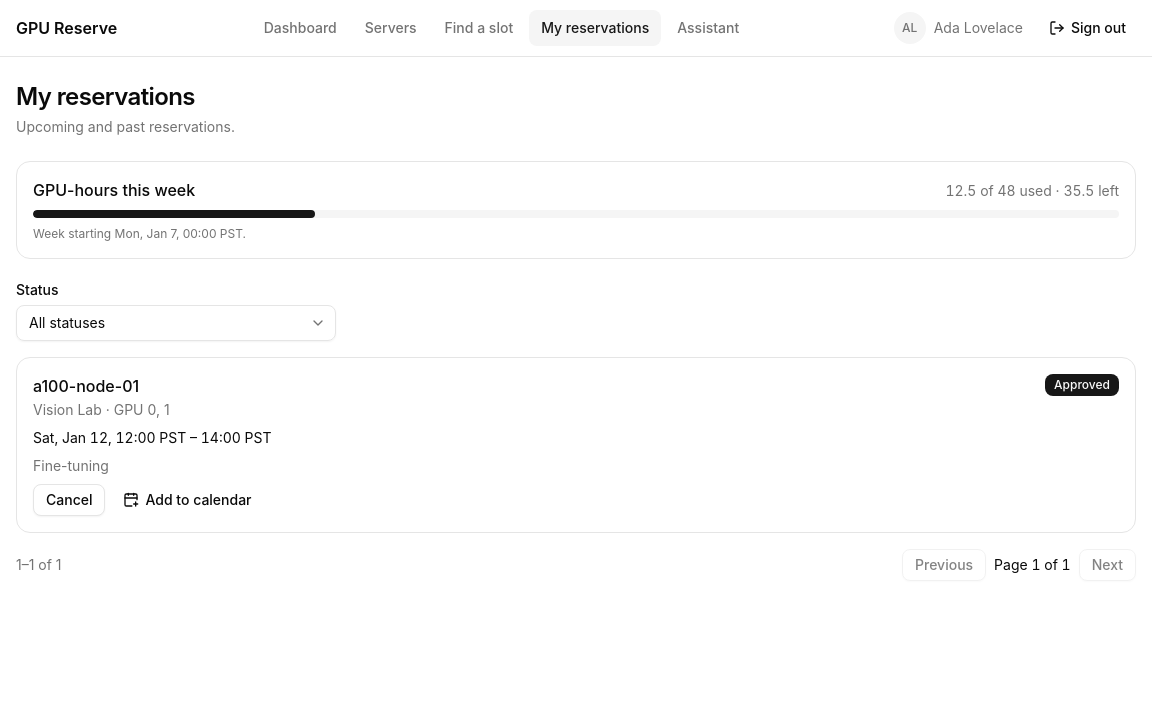
Test case: my reservations page › cancels an upcoming reservation after confirmation
The image size is (1152, 720).
What coordinates should you click on to do the following:
click the button "Cancel"
I would click on:
 (69, 500)
Its box is [33,484,106,516].
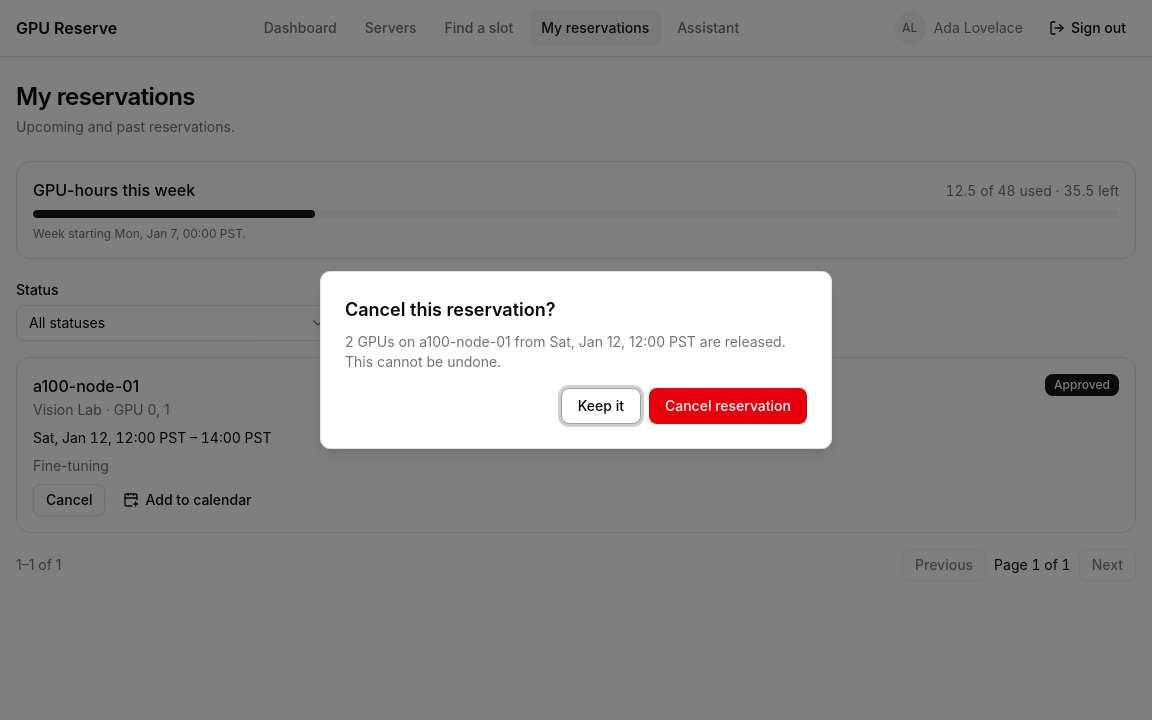
Expected: the dialog "Cancel this reservation?" shows "2 GPUs on a100-node-01 from Sat, Jan 12, 12:00 PST", [345,333,786,370]
What coordinates should you click on to do the following:
click the button "Cancel reservation"
I would click on:
 (728, 406)
Its box is [649,388,807,424].
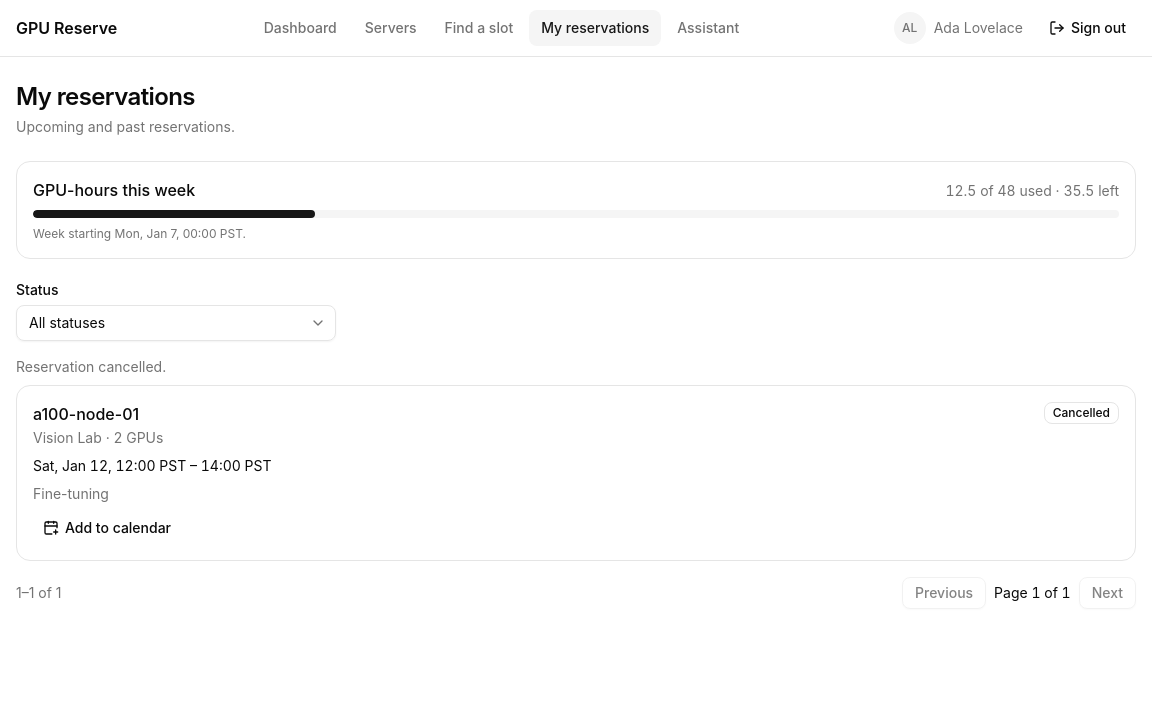
Expected: the text "Reservation cancelled." is shown, [16,358,166,375]
Expected: the text "Cancelled" is shown, [1044,402,1119,424]
